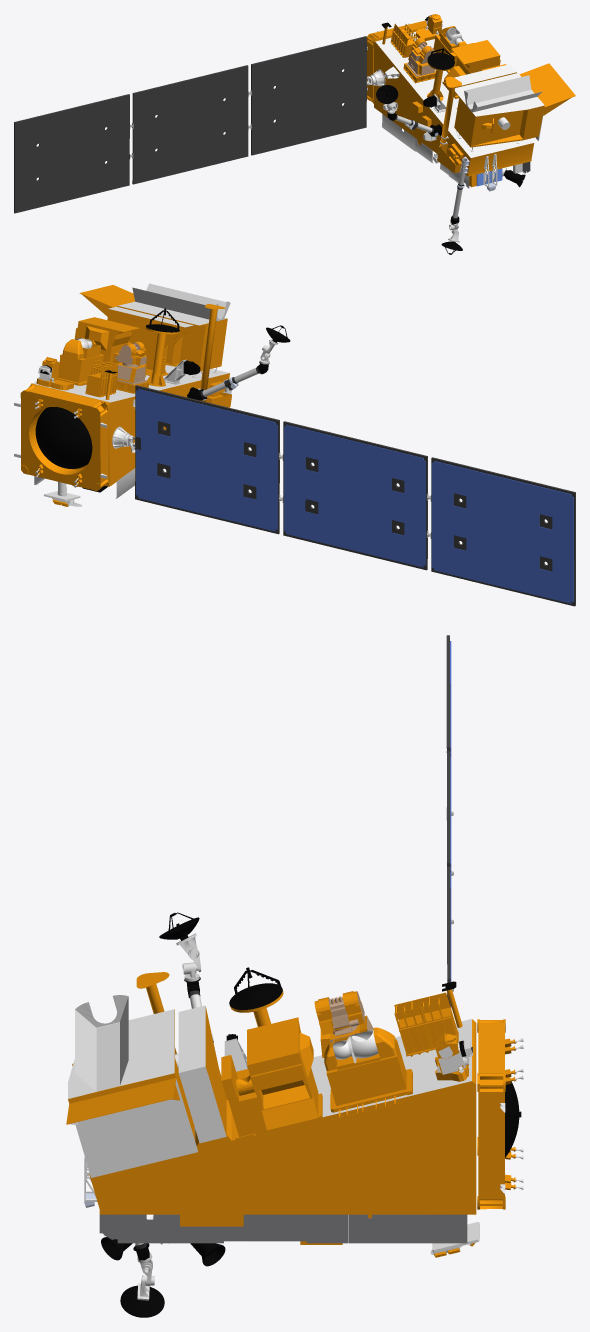
File: noaa20.glb
3 renders of one model, top to bottom at view 1: azimuth 30°, elevation 25°; view 2: azimuth 150°, elevation 25°; view 3: azimuth 270°, elevation 25°, orthographic. The views are drawn at different scales.
Visible parts, largest first — view 1: solar_1, bus_1; view 2: solar_1, bus_1; view 3: bus_1, solar_1.
Boxes of the visible parts, x1=… form: solar_1: x1=14, y1=36, x2=376, y2=213; bus_1: x1=367, y1=14, x2=575, y2=254; solar_1: x1=122, y1=385, x2=575, y2=606; bus_1: x1=14, y1=283, x2=290, y2=506; bus_1: x1=66, y1=912, x2=523, y2=1317; solar_1: x1=446, y1=635, x2=453, y2=1007.
Bounding box in the file's own units: 11.17 × 4.18 × 4.74.
